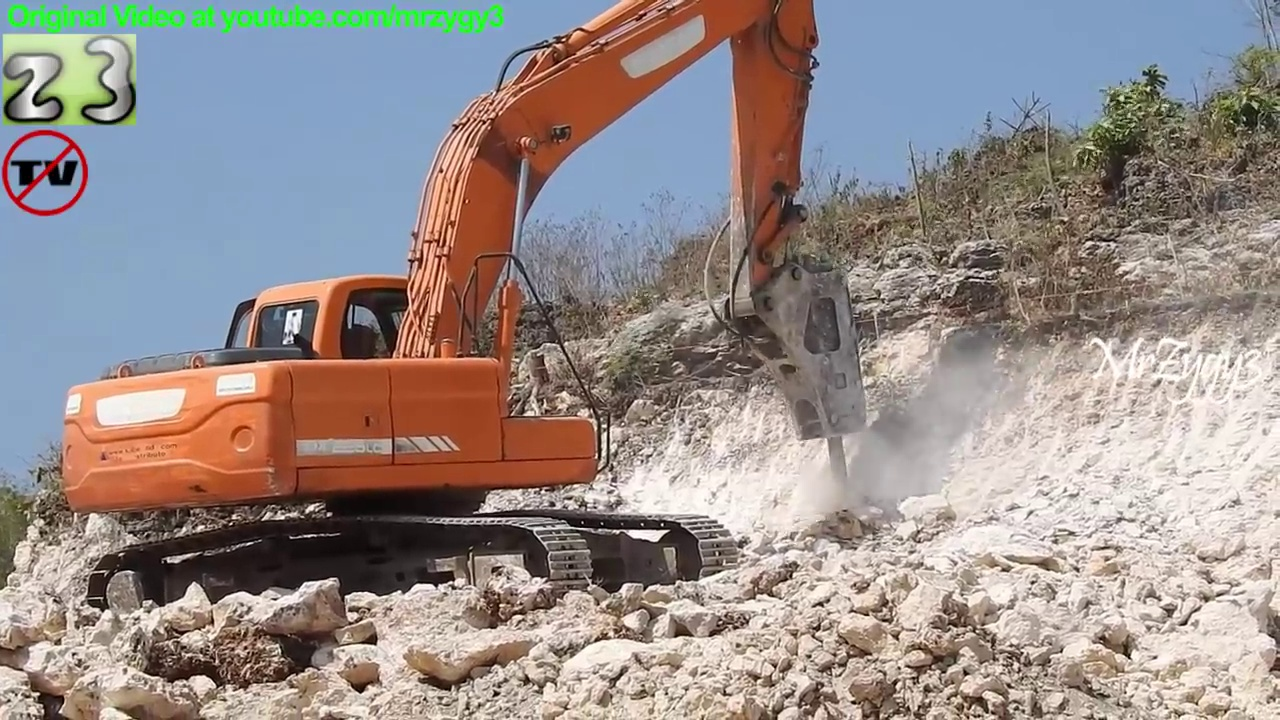excavator: (50, 1, 879, 634)
